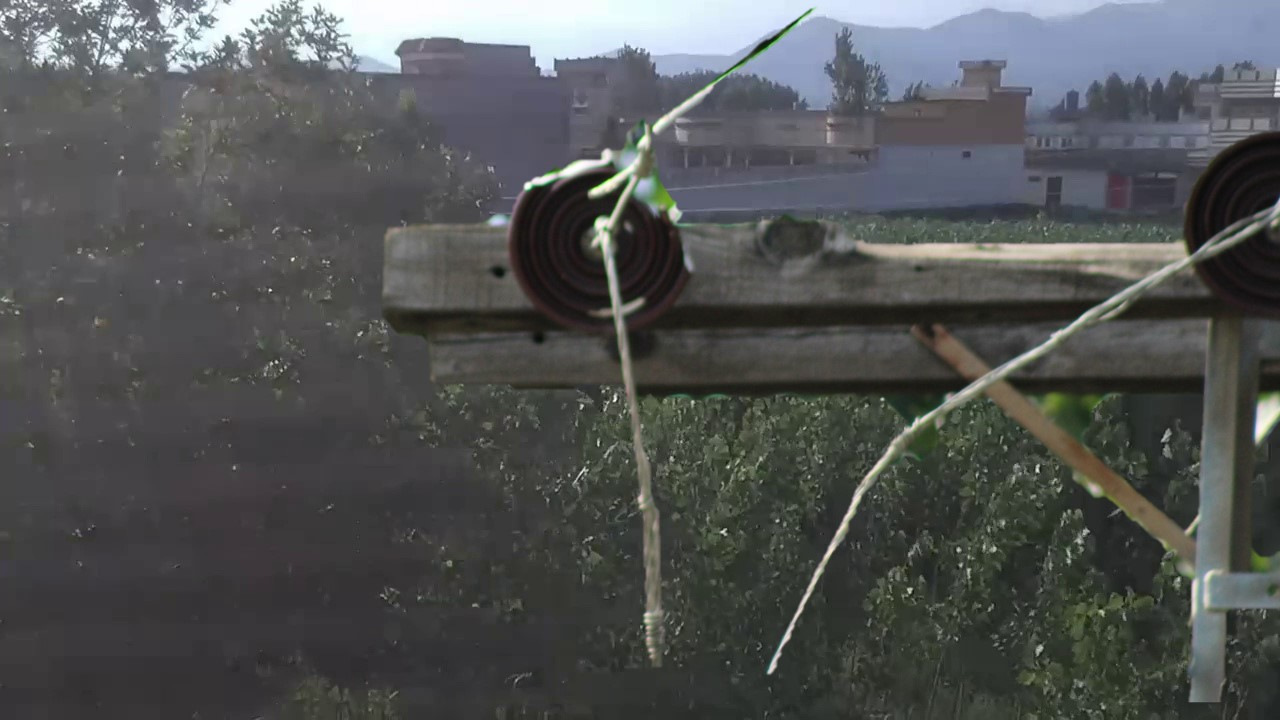defect_disc: (506, 148, 697, 342)
